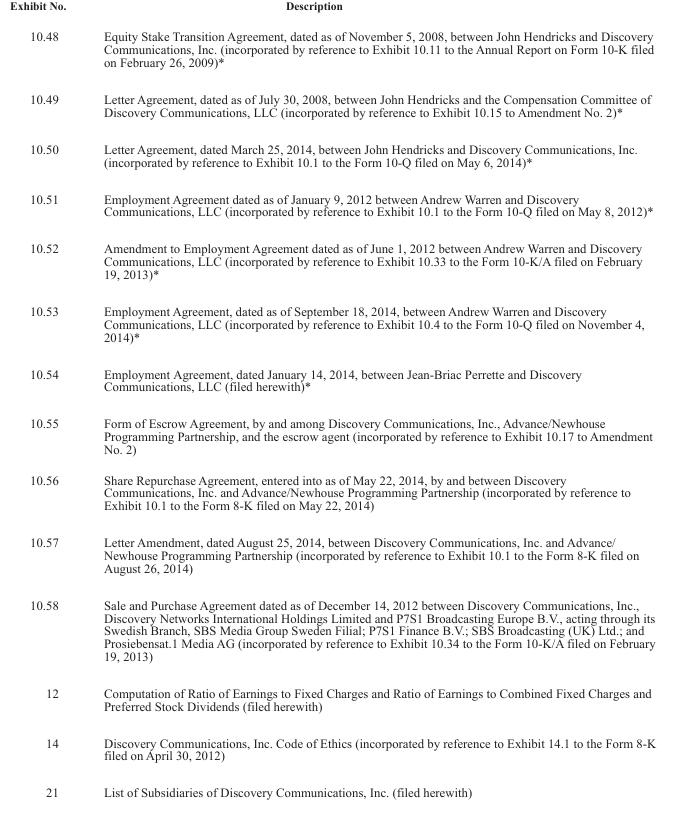table: (29, 29, 655, 799)
table column: (80, 29, 655, 799), (29, 29, 80, 799)
table row: (29, 585, 655, 674), (29, 229, 655, 292), (29, 292, 655, 354), (29, 523, 655, 585), (29, 463, 655, 523), (29, 404, 655, 463), (29, 29, 655, 80), (29, 129, 655, 179), (29, 179, 655, 229), (29, 354, 655, 404), (29, 723, 655, 773), (29, 80, 655, 129), (29, 674, 655, 723), (29, 773, 655, 799)
